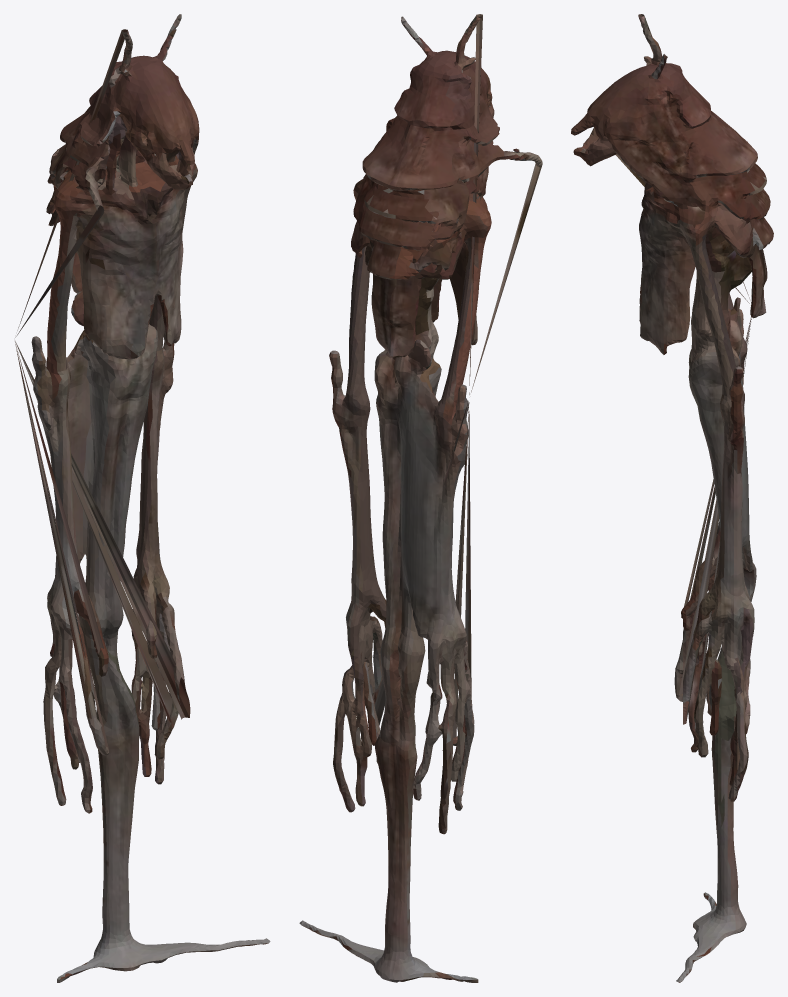
Rendered from garak_horror2.glb.
3 renders of one model, left to right at view 1: azimuth 30°, elevation 25°; view 2: azimuth 150°, elevation 25°; view 3: azimuth 270°, elevation 25°, orthographic. The views are drawn at different scales.
Parts seen in each view (by area): view 1: horror2.obj; view 2: horror2.obj; view 3: horror2.obj.
Part boxes in pixels (x1=…): horror2.obj: x1=15, y1=14, x2=270, y2=982; horror2.obj: x1=299, y1=14, x2=542, y2=982; horror2.obj: x1=571, y1=14, x2=773, y2=982.
Bounding box in the file's own units: 0.455 × 1.95 × 0.4008.
1 material, 1 textured.
